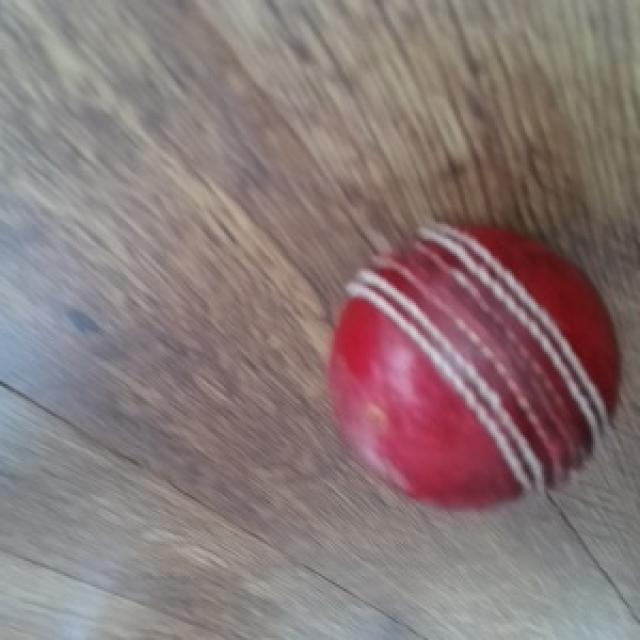ball: (324, 222, 625, 514)
